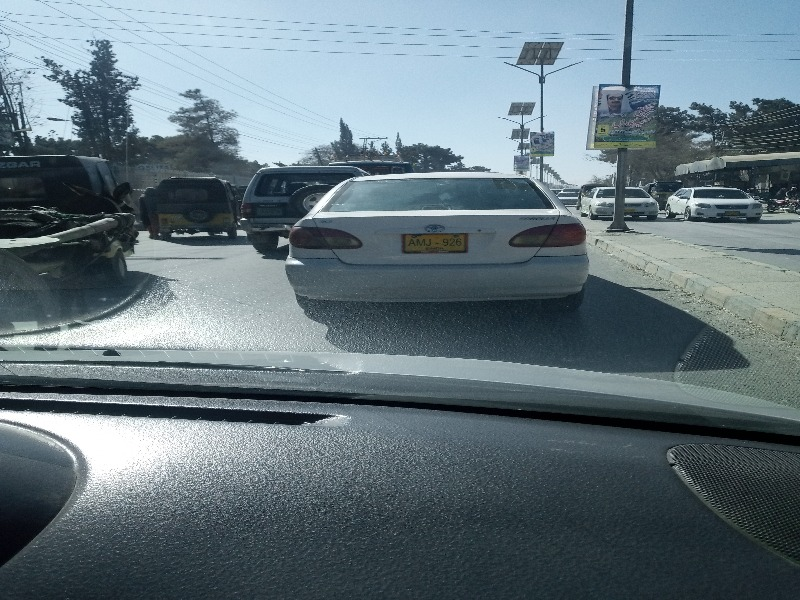License Plate: (398, 229, 469, 257)
